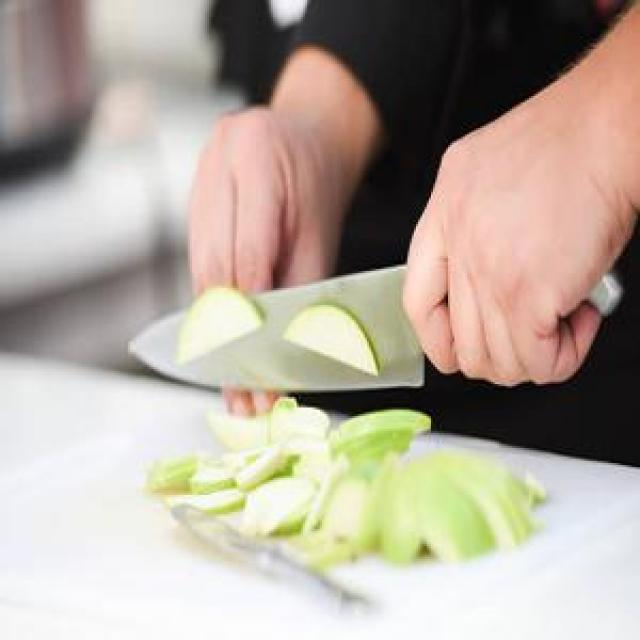knife: (124, 260, 630, 397)
